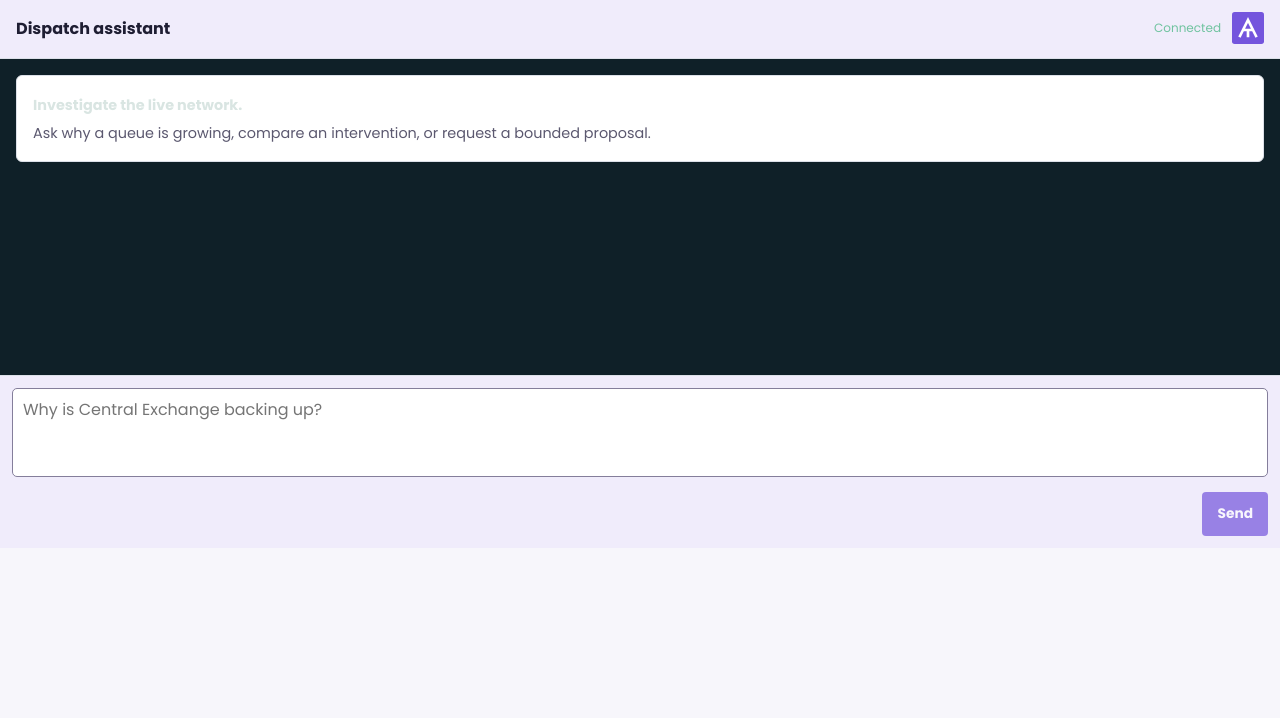
Test case: keeps rich result and provenance flows in Dispatch
Later steps or results of the test are not shown.
Type "Investigate" into the text box at [640, 432], box [12,388,1268,477]
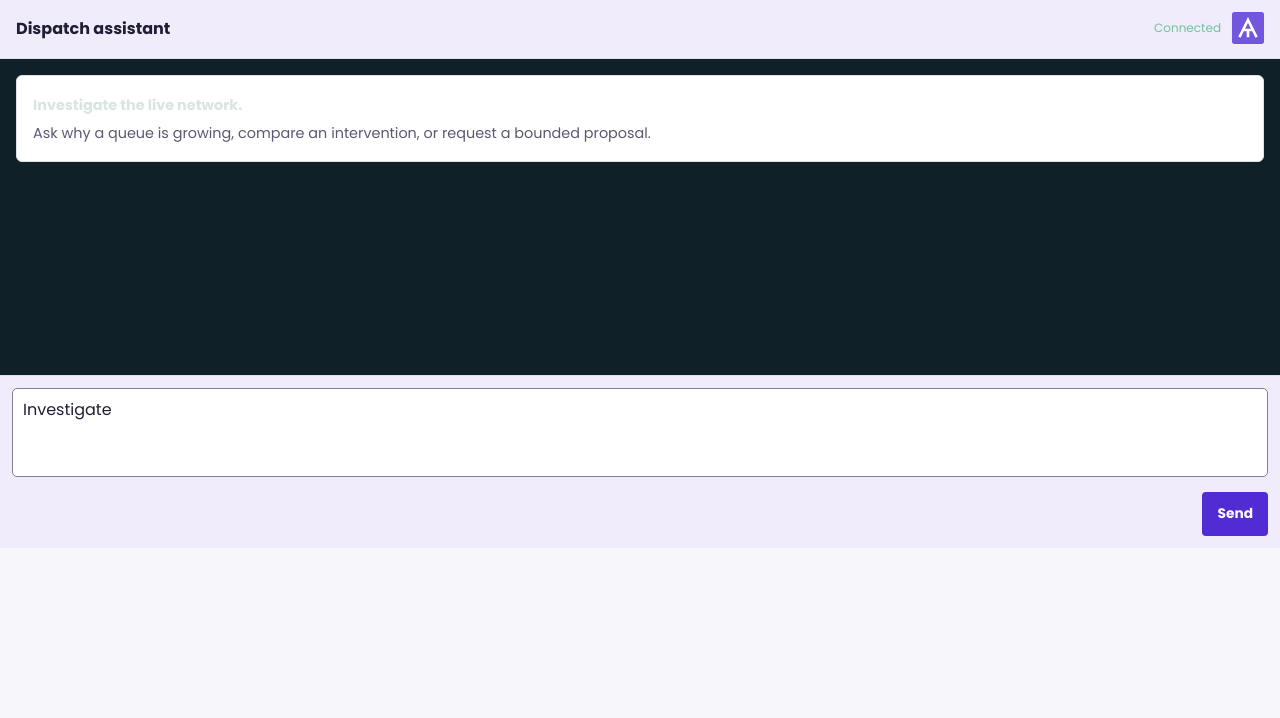
Click the button "Send" at [1235, 514], box [1202,492,1268,536]
(page scrolled)
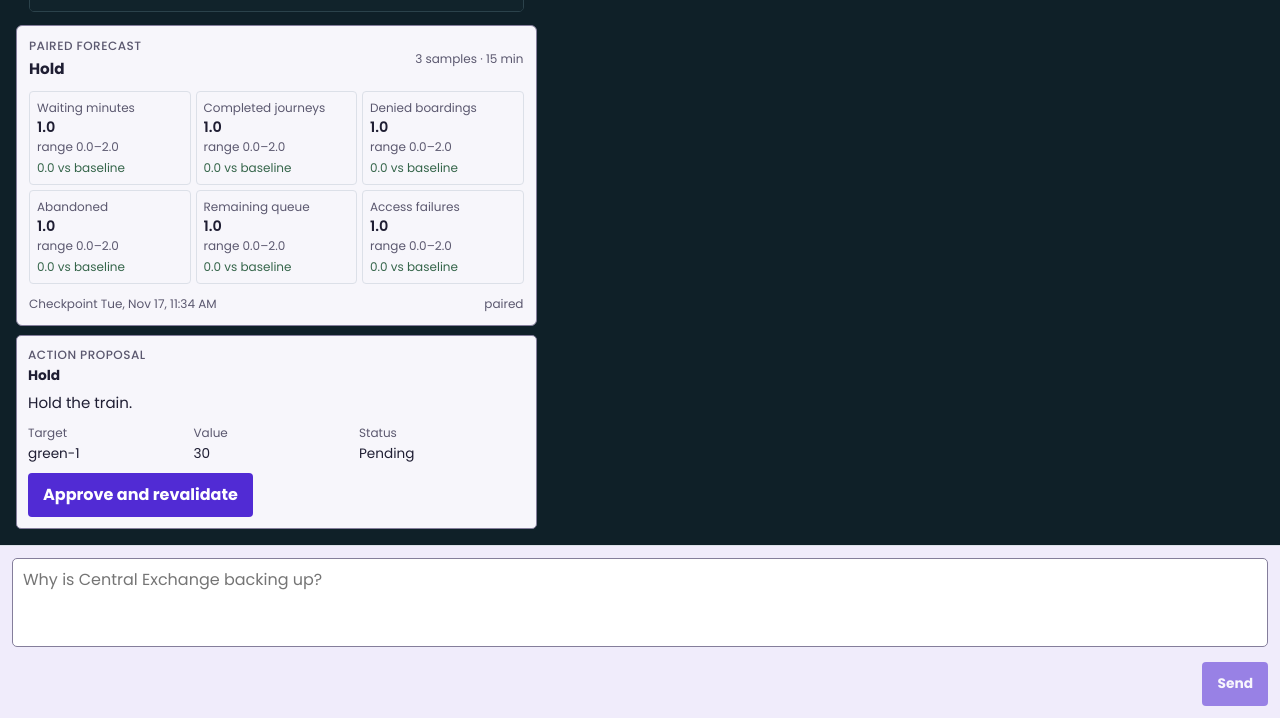
Expected: the element with class "comparison-card" is shown, [16,25,536,326]
Expected: the element that starts with "Action proposal" is shown, [16,335,536,529]
